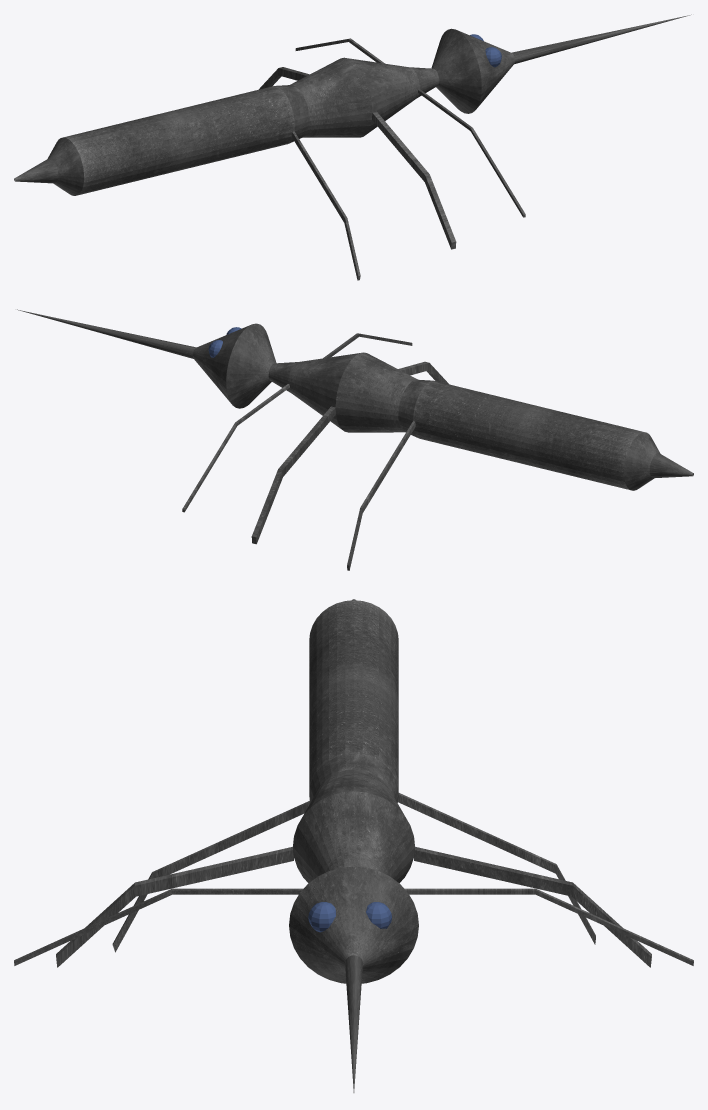
The model's file is mosquitoSemHelice.obj.
3 views of the same model, one above another, from view 1: azimuth 30°, elevation 25°; view 2: azimuth 150°, elevation 25°; view 3: azimuth 270°, elevation 25° (orthographic). The views are drawn at different scales.
Visible parts, largest first — view 1: Cone; view 2: Cone; view 3: Cone.
Part boxes in pixels (<box>): Cone: <box>14,14,691,280</box>; Cone: <box>17,309,693,570</box>; Cone: <box>14,599,693,1092</box>.
Bounding box in the file's own units: 14.83 × 3.04 × 8.62.
Materials: 3 (3 with a texture image).
